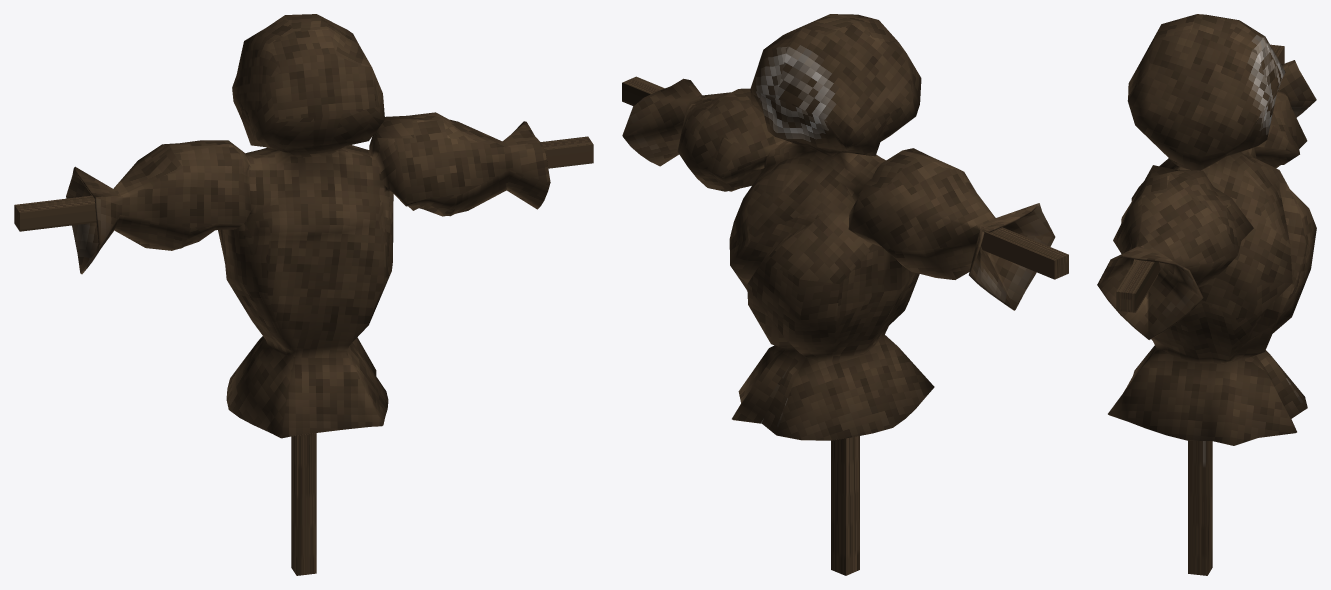
Rendered from Manekin.fbx.
The picture shows the model from 3 angles, left to right: view 1: azimuth 30°, elevation 25°; view 2: azimuth 150°, elevation 25°; view 3: azimuth 270°, elevation 25°; orthographic projection.
Visible parts, largest first — view 1: 平面.005, 立方体.017; view 2: 平面.005, 立方体.017; view 3: 平面.005, 立方体.017.
Boxes of the visible parts, <box> form: 平面.005: <box>66,14,550,438</box>; 立方体.017: <box>14,136,593,575</box>; 平面.005: <box>622,14,1055,440</box>; 立方体.017: <box>622,76,1068,575</box>; 平面.005: <box>1097,14,1316,445</box>; 立方体.017: <box>1116,44,1284,575</box>.
Bounding box in the file's own units: 171 × 176 × 63.77.
2 materials, 2 textured.
